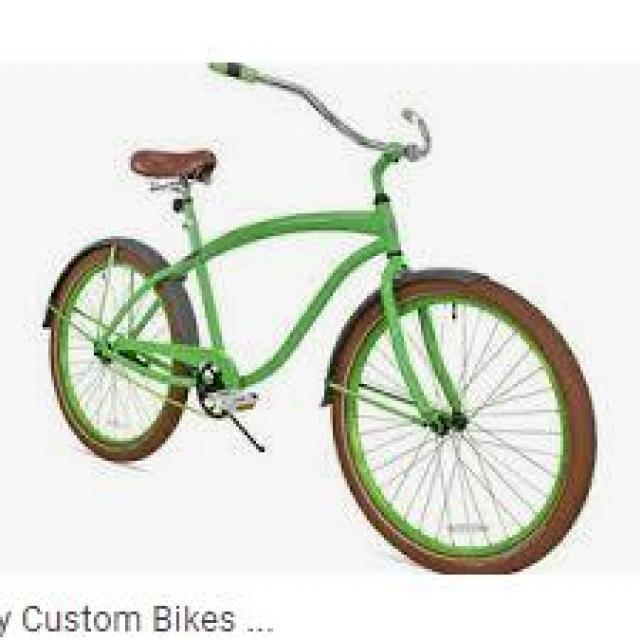bicycle: (26, 55, 607, 570)
